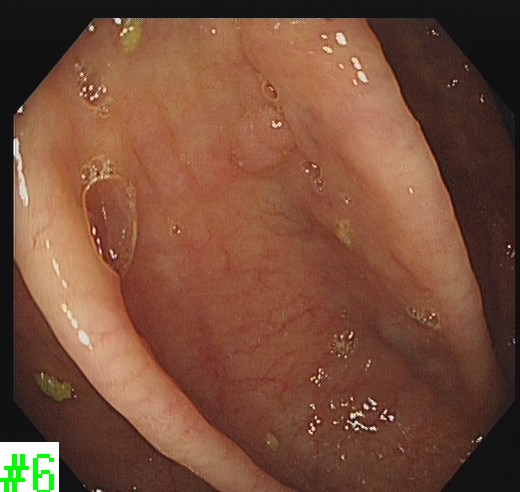adenoma: (228, 103, 295, 172)
